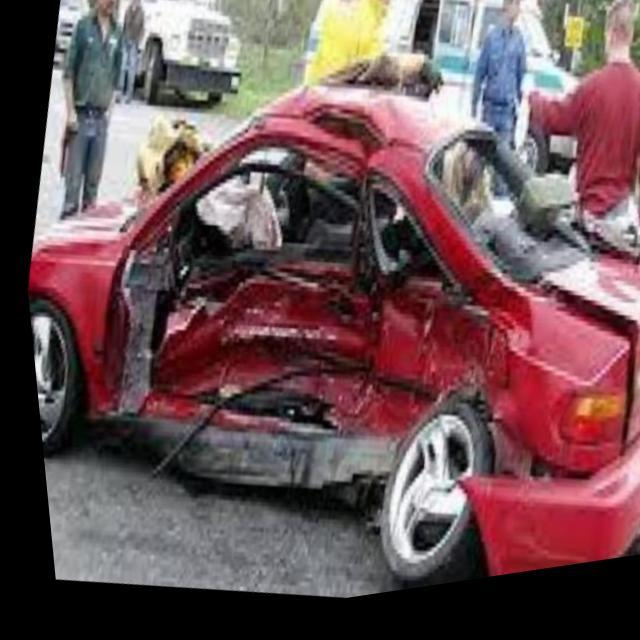crash: (22, 87, 640, 586)
